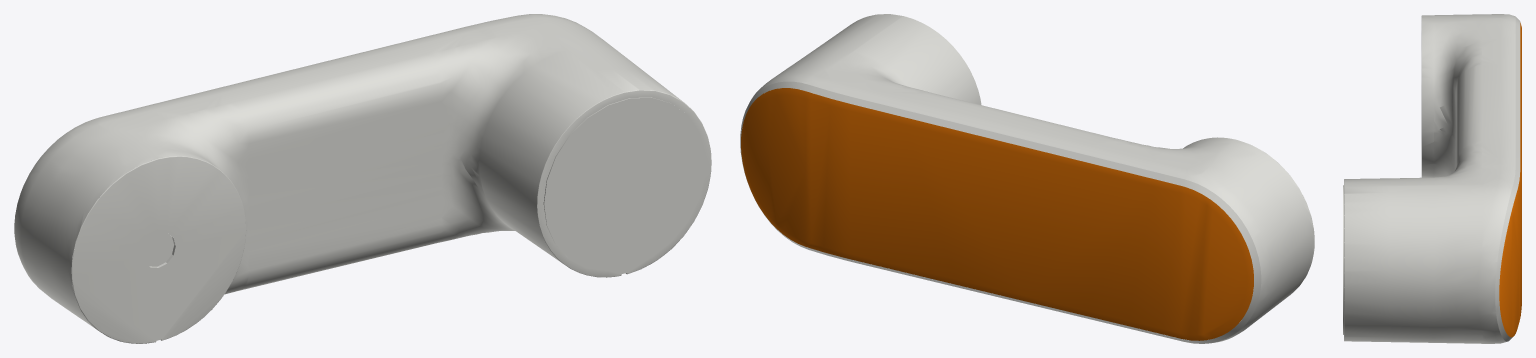
3 renders of one model, left to right at view 1: azimuth 30°, elevation 25°; view 2: azimuth 150°, elevation 25°; view 3: azimuth 270°, elevation 25°, orthographic. The views are drawn at different scales.
Parts seen in each view (by area): view 1: null; view 2: null; view 3: null.
Part boxes in pixels (bbox=[...]): null: bbox=[14, 14, 711, 343]; null: bbox=[740, 14, 1314, 343]; null: bbox=[1343, 14, 1521, 343].
Bounding box in the file's own units: 0.2113 × 0.064 × 0.0683.
